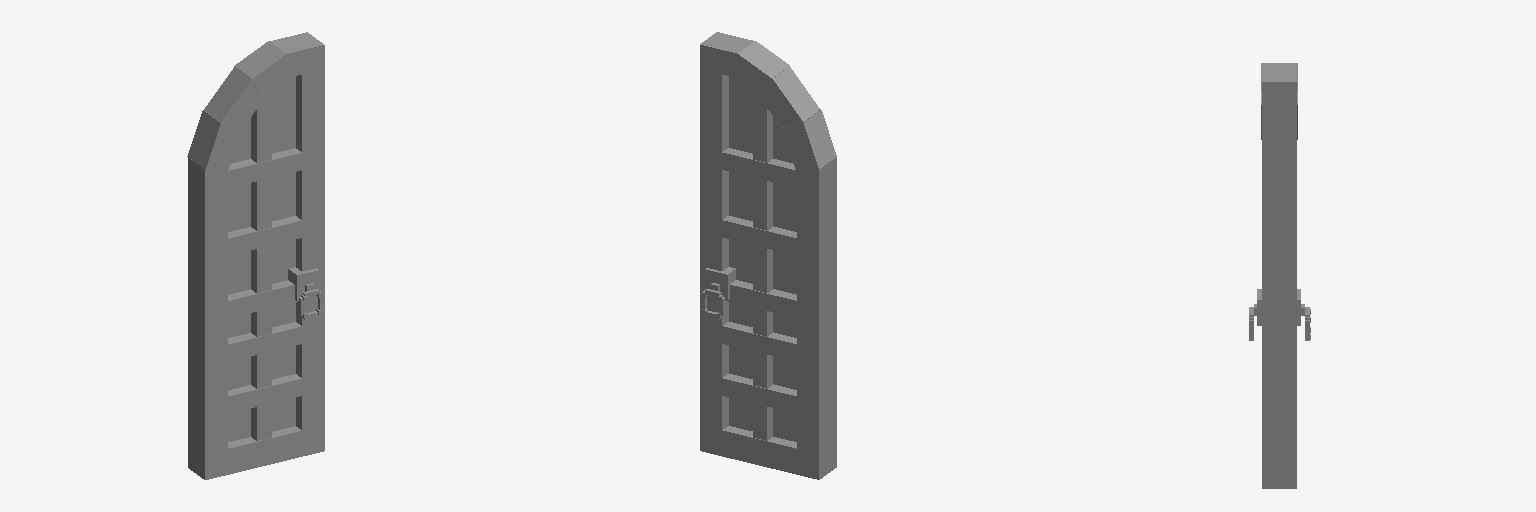
File: large_gate_open.obj
3 renders of one model, left to right at view 1: azimuth 30°, elevation 25°; view 2: azimuth 150°, elevation 25°; view 3: azimuth 270°, elevation 25°, orthographic.
Visible parts, largest first — view 1: Cube.001; view 2: Cube.001; view 3: Cube.001.
Boxes of the visible parts, box(x1,y1,x2,y2) form: Cube.001: box(187, 32, 324, 479); Cube.001: box(700, 32, 836, 479); Cube.001: box(1249, 63, 1310, 488).
Size of the model in its own units: 1.5 by 4.88 by 0.6844.